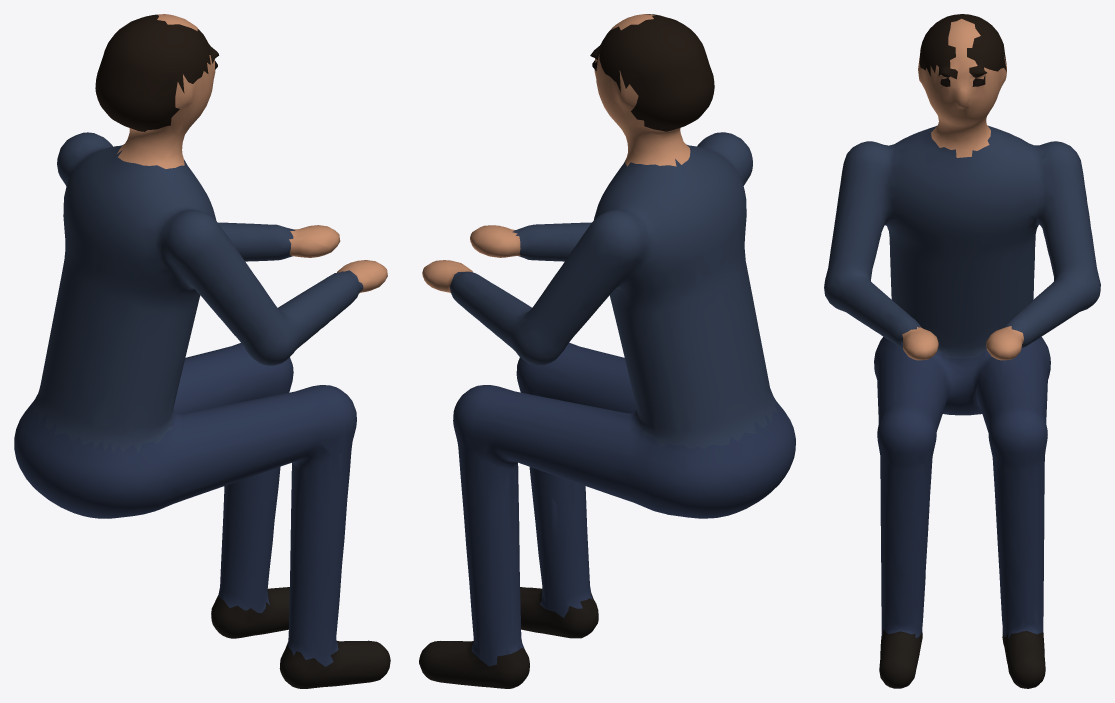
File: SM_Crowd_Seated_A.glb
3 renders of one model, left to right at view 1: azimuth 30°, elevation 25°; view 2: azimuth 150°, elevation 25°; view 3: azimuth 270°, elevation 25°, orthographic. The views are drawn at different scales.
Parts seen in each view (by area): view 1: SM_Crowd_Seated_A; view 2: SM_Crowd_Seated_A; view 3: SM_Crowd_Seated_A.
Part boxes in pixels (<box>): SM_Crowd_Seated_A: <box>14,14,390,688</box>; SM_Crowd_Seated_A: <box>419,14,795,688</box>; SM_Crowd_Seated_A: <box>824,14,1100,688</box>.
Bounding box in the file's own units: 0.7221 × 1.41 × 0.5969.
